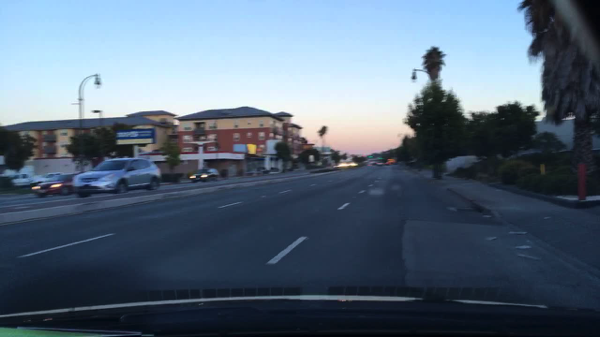car: (73, 156, 162, 197), (31, 172, 86, 196), (188, 168, 220, 183), (11, 174, 32, 186), (374, 161, 385, 167), (386, 160, 397, 165)
